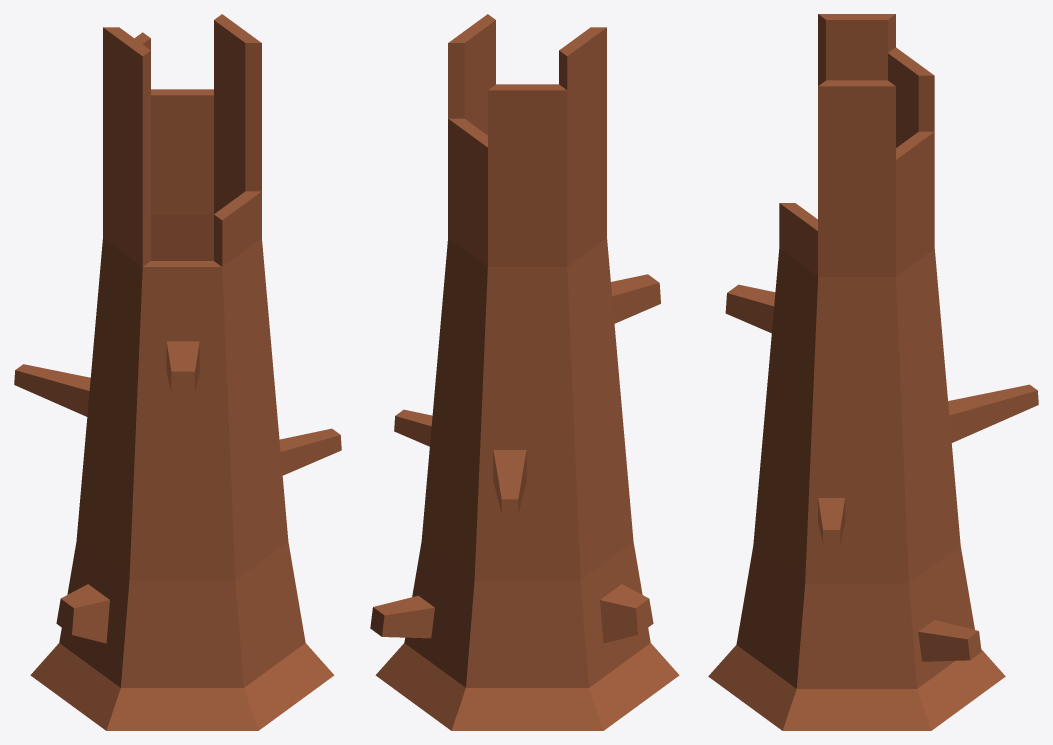
The model's file is trunkLong.dae.
3 views of the same model, side by side, from view 1: azimuth 30°, elevation 25°; view 2: azimuth 150°, elevation 25°; view 3: azimuth 270°, elevation 25° (orthographic). The views are drawn at different scales.
Parts seen in each view (by area): view 1: trunkLong; view 2: trunkLong; view 3: trunkLong.
Boxes of the visible parts, box(x1,y1,x2,y2) form: trunkLong: box(14, 14, 341, 730); trunkLong: box(370, 14, 679, 730); trunkLong: box(708, 14, 1038, 730).
Bounding box in the file's own units: 0.5442 × 1.29 × 0.6118.
